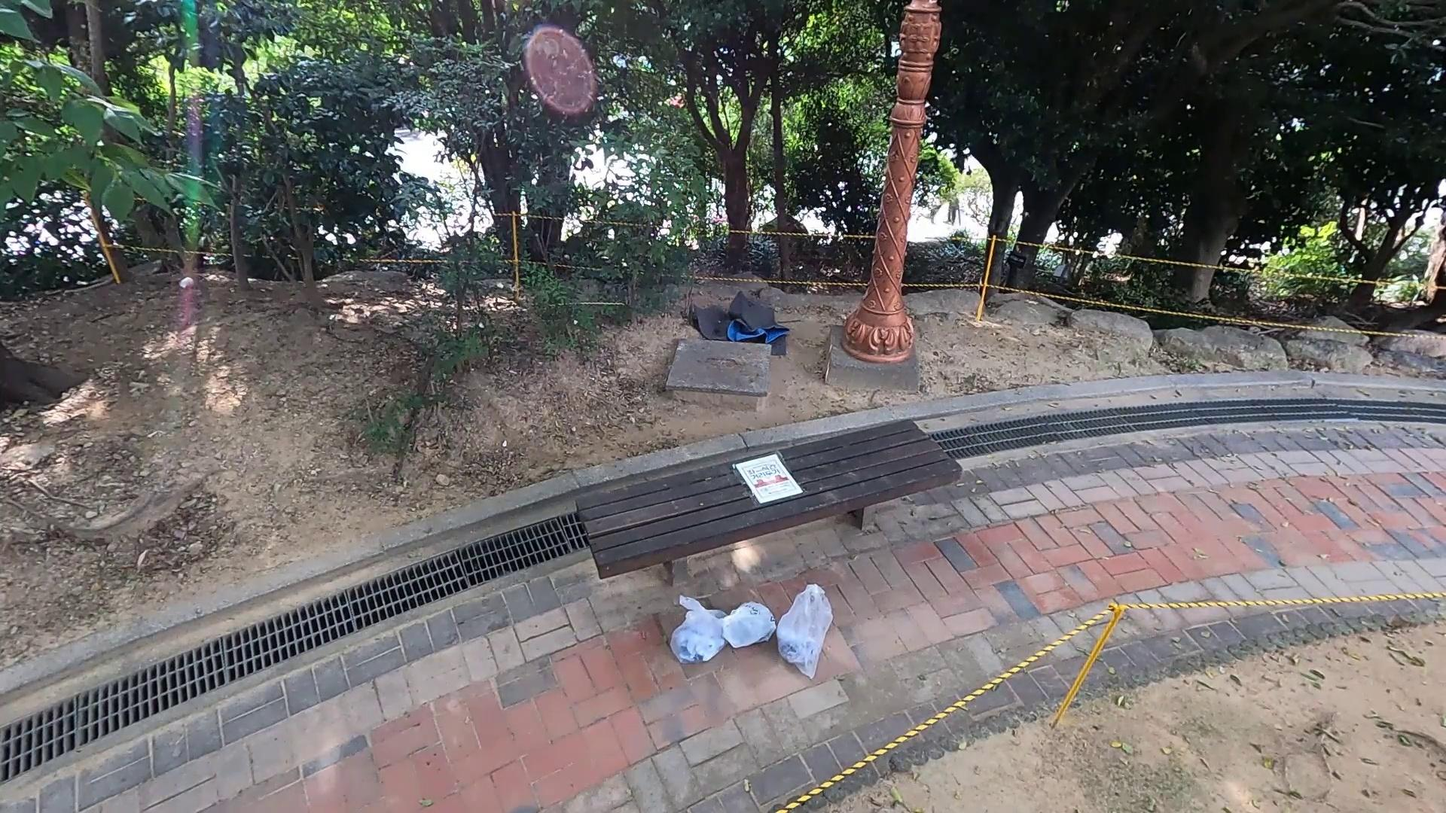trash: (684, 287, 793, 359), (773, 581, 839, 682), (667, 594, 729, 667), (712, 600, 777, 654)
